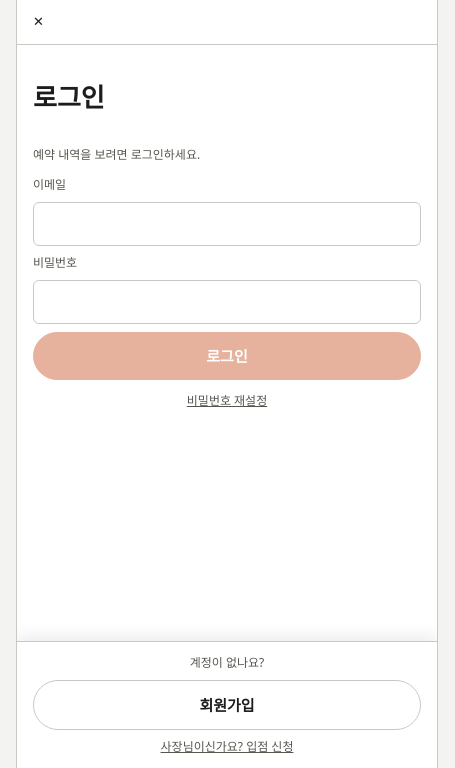
Scenario: MyPage (C6·C10) › /me 비로그인 진입 → /login 안내 「예약 내역을 보려면 로그인하세요.」, 고객 로그인 → /me
Expected: the text "예약 내역을 보려면 로그인하세요." is shown, [33,146,200,163]
Type "customer@test.com" into the field labelled "이메일" at (227, 224), box [33,202,421,246]
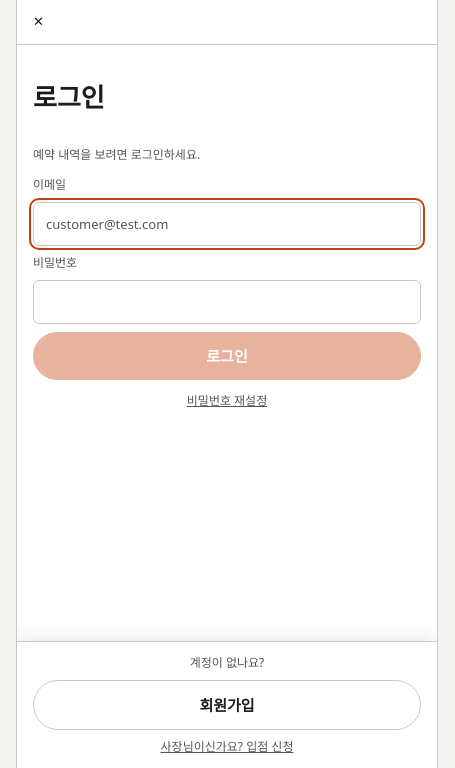
Type "pw123456" into the password field labelled "비밀번호" at (227, 302), box [33,280,421,324]
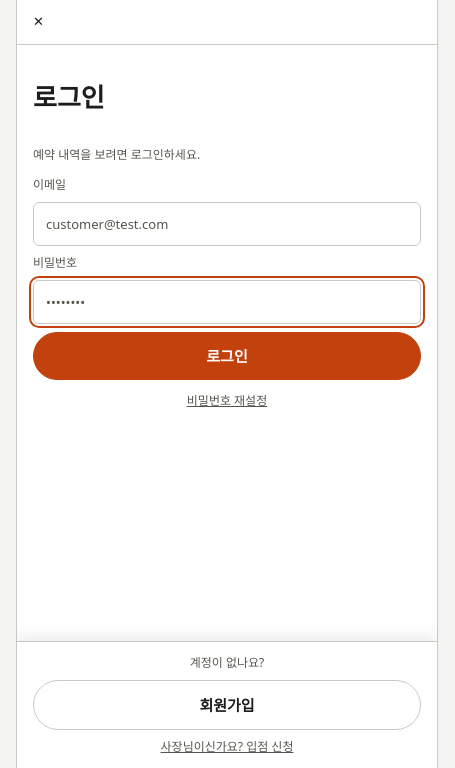
Click the button "로그인" at (227, 356), box [33,332,421,380]
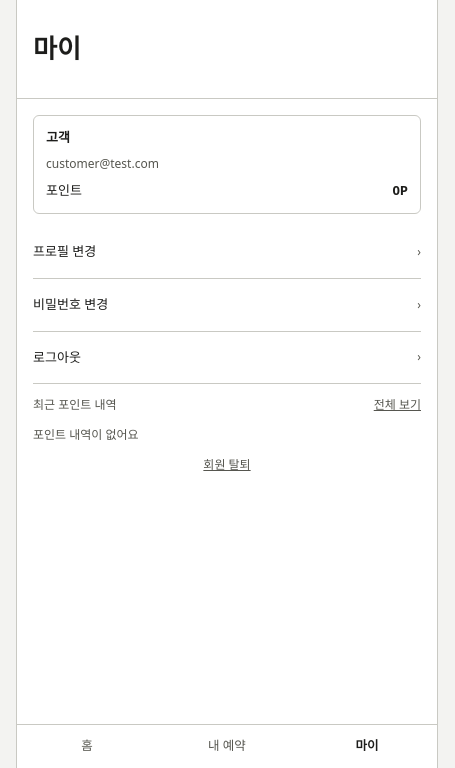
Expected: the heading "마이" is shown, [33,29,81,68]
